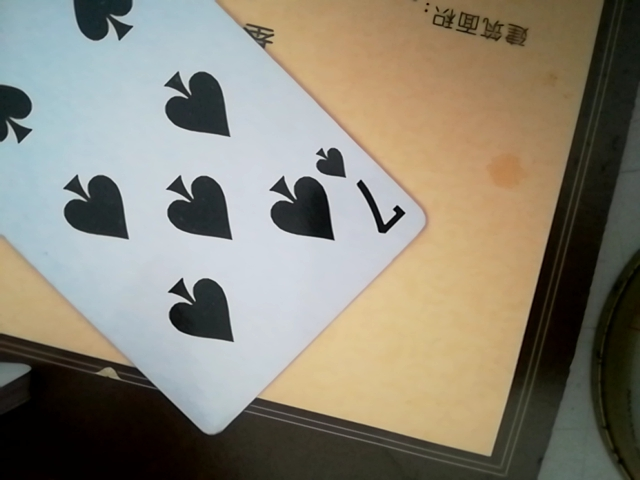ht 7: (3, 3, 448, 436)
